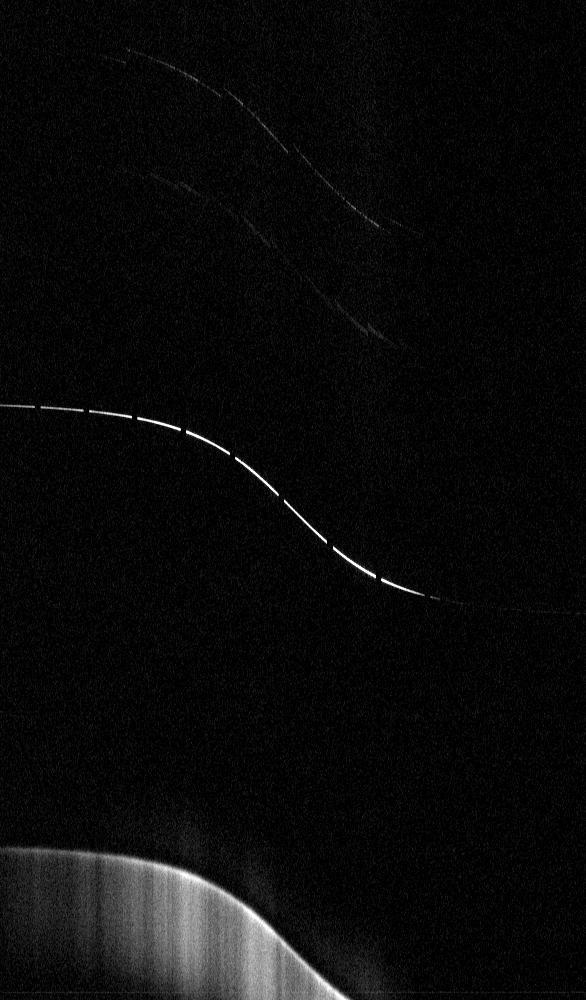signal: (0, 0, 585, 999)
